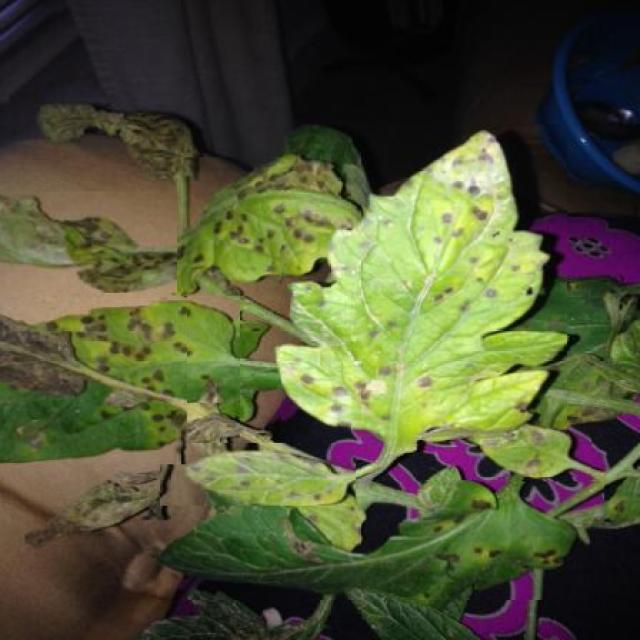Septoria: (282, 125, 567, 448), (157, 481, 604, 600), (153, 157, 380, 296), (0, 306, 187, 464), (52, 300, 241, 402), (0, 191, 177, 293), (160, 443, 356, 506), (467, 417, 592, 477)
